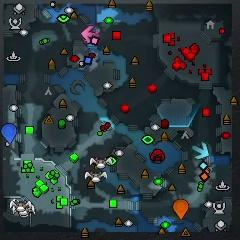p1: (2, 123, 17, 144)
p5: (174, 200, 189, 220)
x1: (81, 25, 99, 45)
x3: (191, 141, 210, 160)
